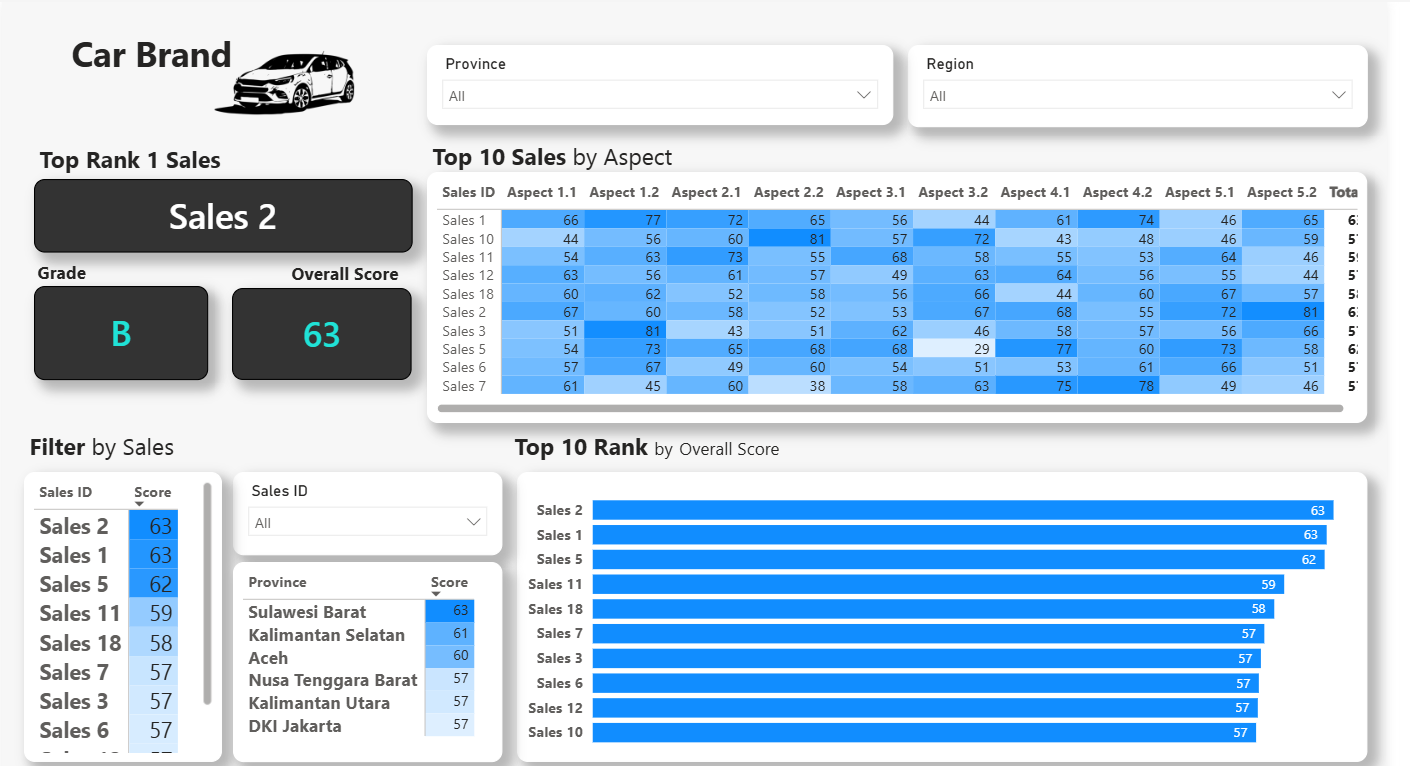

Layout of this report page (visuals, bound fields, positions):
{"tool":"powerbi","page":{"name":"Overall","canvas":[1280,720],"ordinal":0},"visuals":[{"type":"card","fields":{"Values":["Min(Dummy_2 (2).Sales ID)"]},"box":[29.6,163.8,349.6,68],"z":0},{"type":"card","fields":{"Values":["Dummy_2 (2).Grade 2"]},"box":[29.6,262,160.6,86.9],"z":1000},{"type":"card","fields":{"Values":["Avg(Dummy_2 (2).Score)"]},"box":[212.9,263.9,166.3,85],"z":2000},{"type":"pivotTable","fields":{"Rows":["Dummy_2 (2).Sales ID"],"Values":["Avg(Dummy_2 (2).Score)"],"Columns":["Dummy_2 (2).Aspect"]},"box":[393.1,156.9,869.3,232.4],"z":3000},{"type":"textbox","box":[393.1,122.8,323.2,51],"z":4000},{"type":"textbox","box":[29.6,126,323.2,51],"z":5000},{"type":"textbox","box":[27.7,233.7,81.3,51],"z":6000},{"type":"textbox","box":[262.7,234.3,179.5,51],"z":7000},{"type":"slicer","fields":{"Values":["Dummy_2 (2).Region"]},"box":[837.2,39.7,425.2,75.6],"z":8000},{"type":"slicer","fields":{"Values":["Dummy_2 (2).Province"]},"box":[393.1,39.7,430.9,73.7],"z":9000},{"type":"clusteredBarChart","fields":{"Category":["Dummy_2 (2).Sales ID"],"Y":["Avg(Dummy_2 (2).Score)"]},"box":[476.2,434.6,786.1,268.3],"z":10000},{"type":"slicer","fields":{"Values":["Dummy_2 (2).Sales ID"]},"box":[213.5,434.6,249.5,77.5],"z":11000},{"type":"textbox","box":[468.7,391.2,279.7,51],"z":12000},{"type":"pivotTable","fields":{"Rows":["Dummy_2 (2).Sales ID"],"Values":["Avg(Dummy_2 (2).Score)"]},"box":[20.8,434.6,183.3,268.3],"z":13000},{"type":"pivotTable","fields":{"Values":["Avg(Dummy_2 (2).Score)"],"Rows":["Dummy_2 (2).Province"]},"box":[213.5,517.8,249.5,185.2],"z":14000},{"type":"textbox","box":[20.8,391.2,209.8,51],"z":15000},{"type":"textbox","box":[59.3,20.6,203.6,74.7],"z":16000,"group":"g1"},{"type":"image","box":[110.8,0,301.5,149.5],"z":17000,"group":"g1"},{"type":"group","id":"g1","title":"Brand Name","box":[59.3,0,353.1,149.5],"z":17001}]}

Visuals, with their boxes on the page's 1280x720 design canvas (x1, y1, x2, y2). These are canvas units, not pixel positions in the 1410x766 screenshot, which may show the page scaled, cropped or inside an application window:
card - Min(Dummy_2 (2).Sales ID): {"x1": 30, "y1": 164, "x2": 379, "y2": 232}
card - Dummy_2 (2).Grade 2: {"x1": 30, "y1": 262, "x2": 190, "y2": 349}
card - Avg(Dummy_2 (2).Score): {"x1": 213, "y1": 264, "x2": 379, "y2": 349}
pivotTable - Dummy_2 (2).Sales ID x Avg(Dummy_2 (2).Score): {"x1": 393, "y1": 157, "x2": 1262, "y2": 389}
textbox: {"x1": 393, "y1": 123, "x2": 716, "y2": 174}
textbox: {"x1": 30, "y1": 126, "x2": 353, "y2": 177}
textbox: {"x1": 28, "y1": 234, "x2": 109, "y2": 285}
textbox: {"x1": 263, "y1": 234, "x2": 442, "y2": 285}
slicer - Dummy_2 (2).Region: {"x1": 837, "y1": 40, "x2": 1262, "y2": 115}
slicer - Dummy_2 (2).Province: {"x1": 393, "y1": 40, "x2": 824, "y2": 113}
clusteredBarChart - Dummy_2 (2).Sales ID x Avg(Dummy_2 (2).Score): {"x1": 476, "y1": 435, "x2": 1262, "y2": 703}
slicer - Dummy_2 (2).Sales ID: {"x1": 214, "y1": 435, "x2": 463, "y2": 512}
textbox: {"x1": 469, "y1": 391, "x2": 748, "y2": 442}
pivotTable - Dummy_2 (2).Sales ID x Avg(Dummy_2 (2).Score): {"x1": 21, "y1": 435, "x2": 204, "y2": 703}
pivotTable - Avg(Dummy_2 (2).Score) x Dummy_2 (2).Province: {"x1": 214, "y1": 518, "x2": 463, "y2": 703}
textbox: {"x1": 21, "y1": 391, "x2": 231, "y2": 442}
textbox: {"x1": 59, "y1": 21, "x2": 263, "y2": 95}
image: {"x1": 111, "y1": 0, "x2": 412, "y2": 150}
"Brand Name" group: {"x1": 59, "y1": 0, "x2": 412, "y2": 150}
